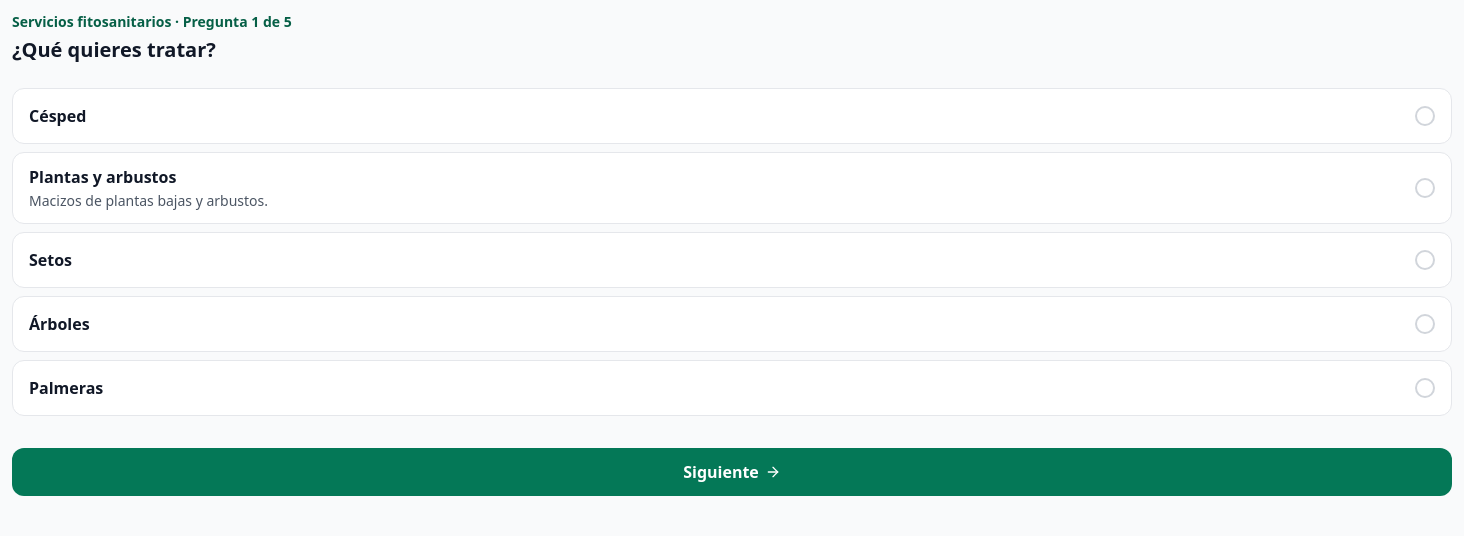
it: fitosanitarios · cantidad y tamaño en una pantalla (D-05, P-08, D-12) › Árboles: «¿Cuántos árboles hay que tratar?» con el campo «Número de árboles»
Click the radio button labelled "Árboles": {"x": 59, "y": 324} [12,296,1452,352]
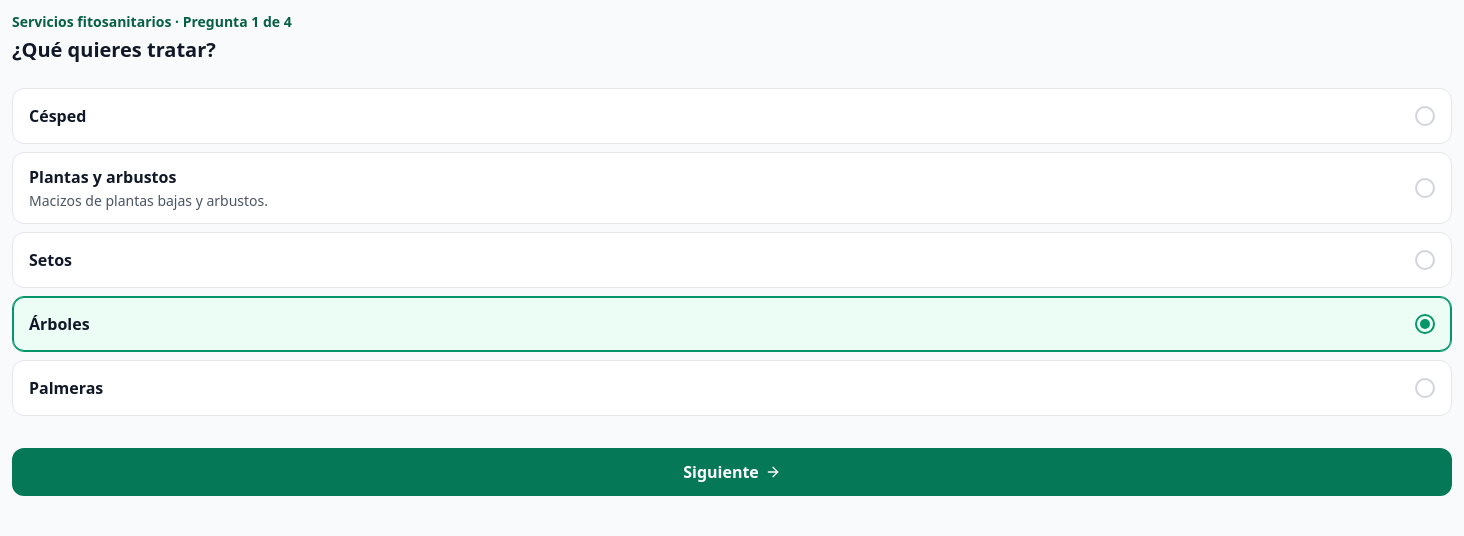
Click the button "Siguiente": {"x": 732, "y": 472} [12,448,1452,496]
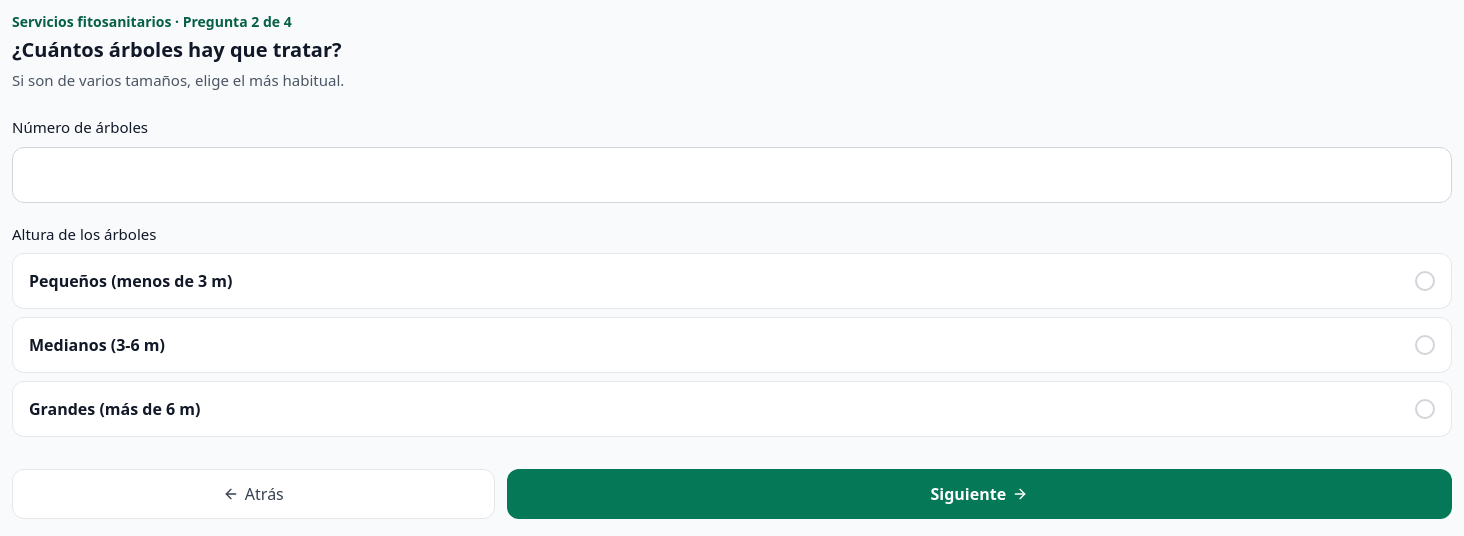
Expected: the heading reads "¿Cuántos árboles hay que tratar?", [12,36,342,63]
Expected: the field labelled "Número de árboles" is shown, [12,146,1452,202]
